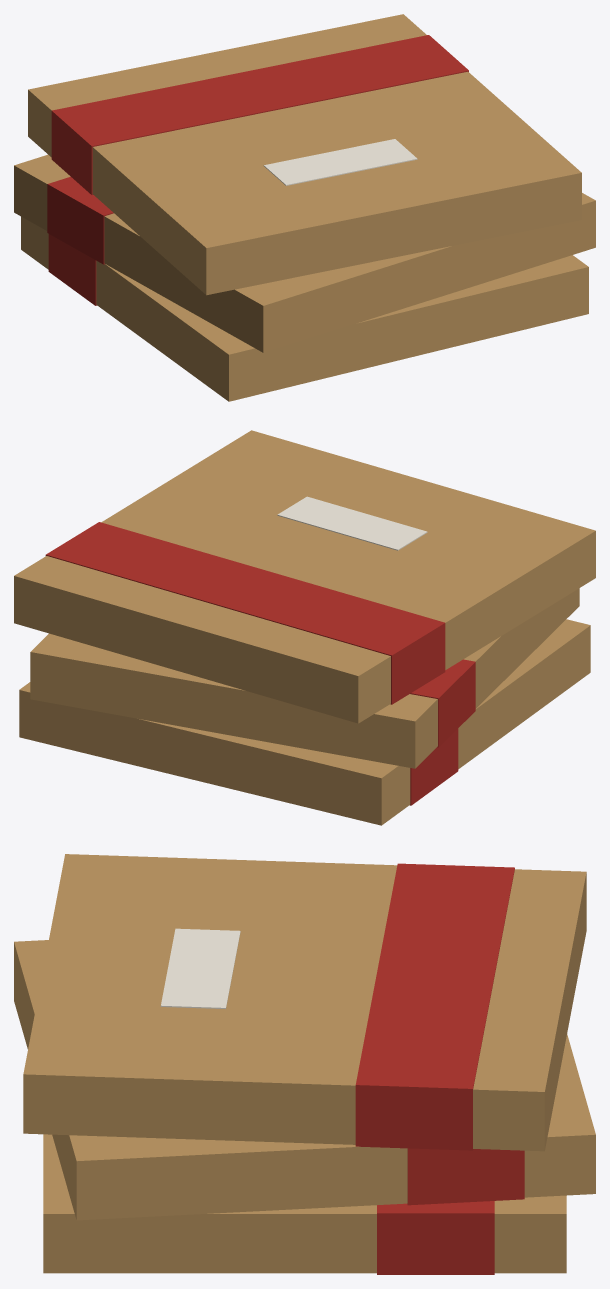
The model's file is pizza.glb.
3 renders of one model, top to bottom at view 1: azimuth 30°, elevation 25°; view 2: azimuth 150°, elevation 25°; view 3: azimuth 270°, elevation 25°, orthographic. The views are drawn at different scales.
Visible parts, largest first — view 1: PizzaBox_body_03, PizzaBox_body_01, PizzaBox_body_02, PizzaBox_band_03, PizzaBox_band_02, PizzaBox_label_03, PizzaBox_band_01; view 2: PizzaBox_body_03, PizzaBox_body_01, PizzaBox_body_02, PizzaBox_band_03, PizzaBox_label_03, PizzaBox_band_02, PizzaBox_band_01; view 3: PizzaBox_body_03, PizzaBox_band_03, PizzaBox_body_02, PizzaBox_body_01, PizzaBox_band_01, PizzaBox_band_02, PizzaBox_label_03.
Part boxes in pixels (x1,y1,x2,y2): PizzaBox_body_03: (28,14,581,295); PizzaBox_body_01: (21,216,588,401); PizzaBox_body_02: (14,154,595,352); PizzaBox_band_03: (51,35,468,194); PizzaBox_band_02: (47,176,113,264); PizzaBox_label_03: (263,139,417,185); PizzaBox_band_01: (48,234,96,305); PizzaBox_body_03: (14,430,595,723); PizzaBox_body_01: (19,619,590,825); PizzaBox_body_02: (30,588,579,768); PizzaBox_band_03: (45,522,445,704); PizzaBox_label_03: (277,496,427,550); PizzaBox_band_02: (410,659,475,747); PizzaBox_band_01: (410,728,458,805); PizzaBox_body_03: (23,854,586,1151); PizzaBox_band_03: (355,863,514,1150); PizzaBox_body_02: (14,940,595,1220); PizzaBox_body_01: (43,1134,566,1273); PizzaBox_band_01: (377,1201,494,1274); PizzaBox_band_02: (407,1148,524,1205); PizzaBox_label_03: (160,928,240,1009).
Bounding box in the file's own units: 0.445 × 0.162 × 0.445.
